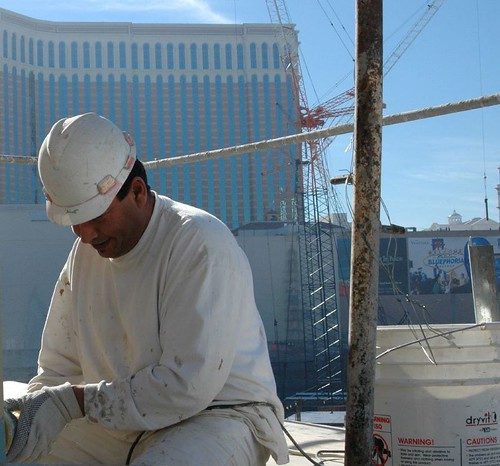person hardhat: (36, 112, 148, 259)
